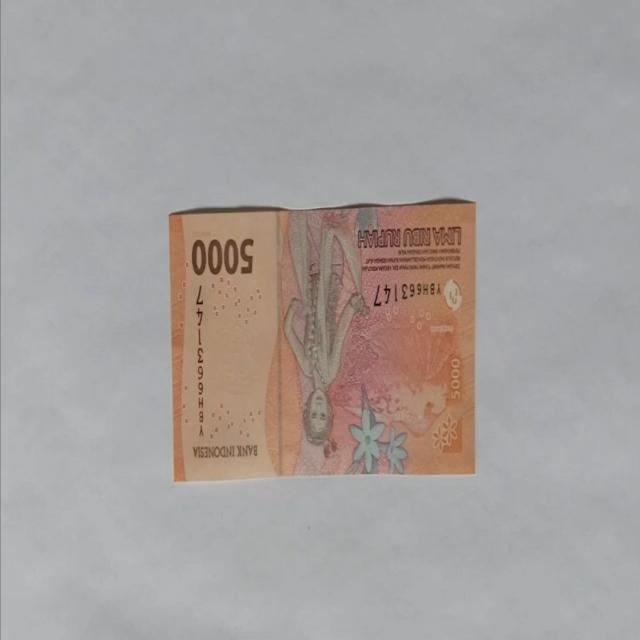lima ribu rupiah: (168, 197, 477, 481)
